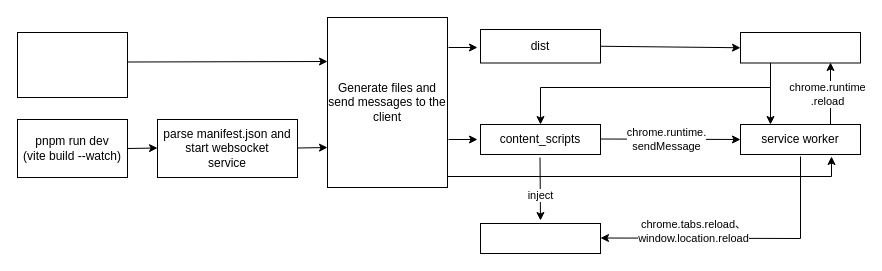
Image size: 882x271. Some labels were removed from this diagram. Here are the shapes that lost their labels. From the top down, the centre of each, then its label:
the point at 72,65: files change
the point at 800,47: chrome extension
the point at 540,238: page
